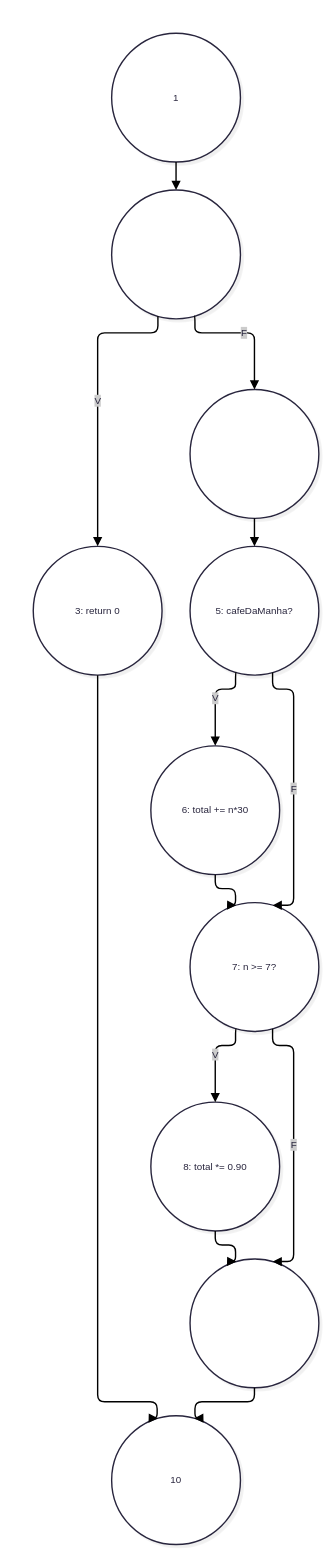
Some shapes in this 334 by 1560 pixel diagram are drawn without their labels. Here are the shapes that lost their labels. From the top down, the centre of each, then its label:
At point 177,255: "2: cancelada?".
At point 255,455: "4: total = n * d".
At point 255,1324: "9: return total".
